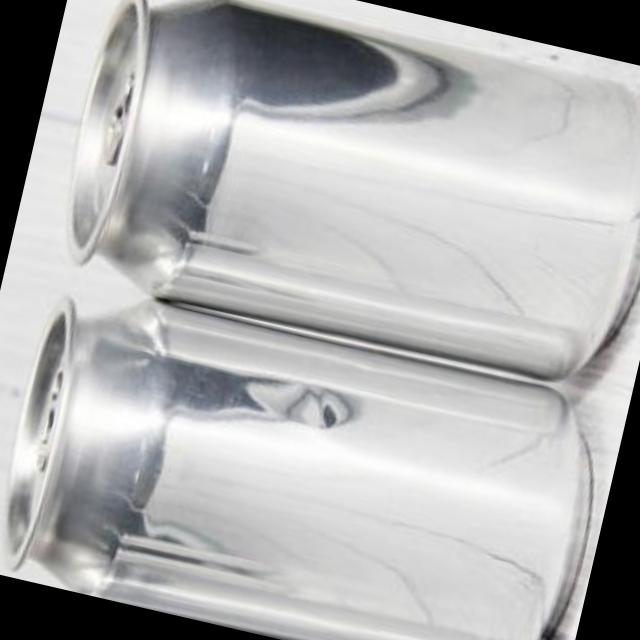metal: (66, 0, 640, 376), (3, 299, 587, 640)
